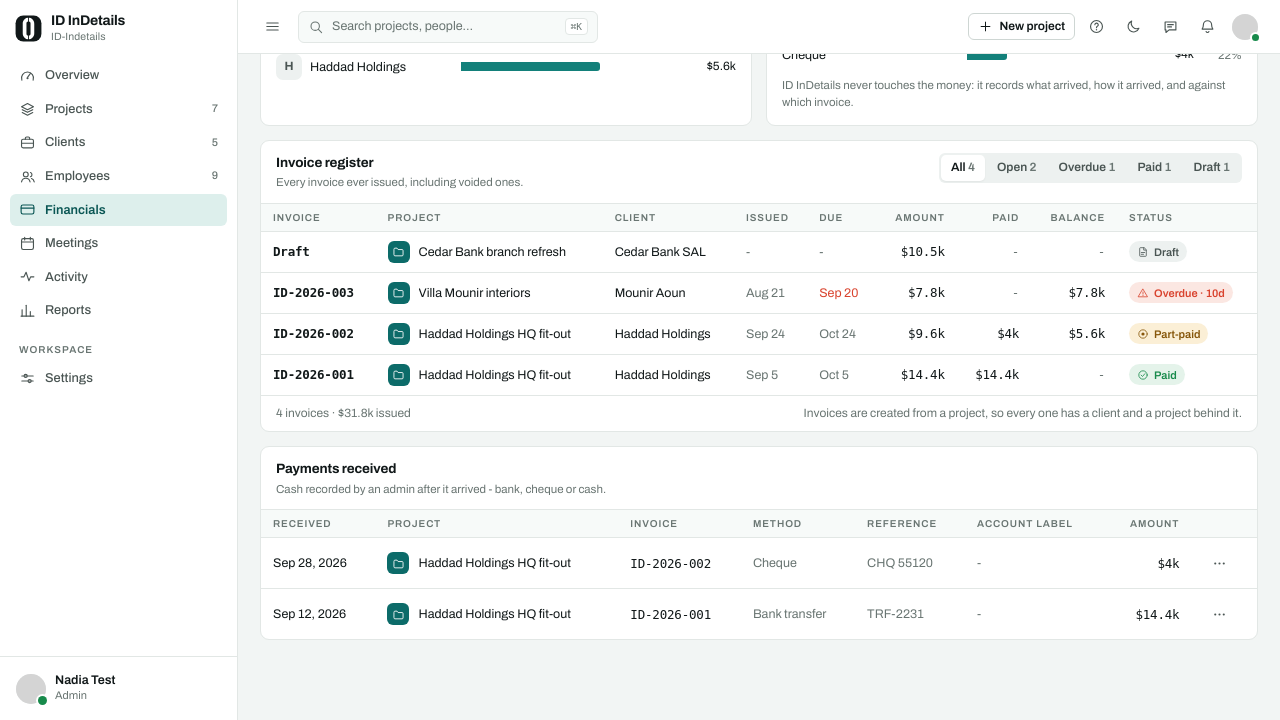
Test: the Label action › files a payment under a label, which the list then shows
(page scrolled)
Click the button named "Payment of Sep 28 actions": click(1219, 563) x1=1203 y1=547 x2=1235 y2=579
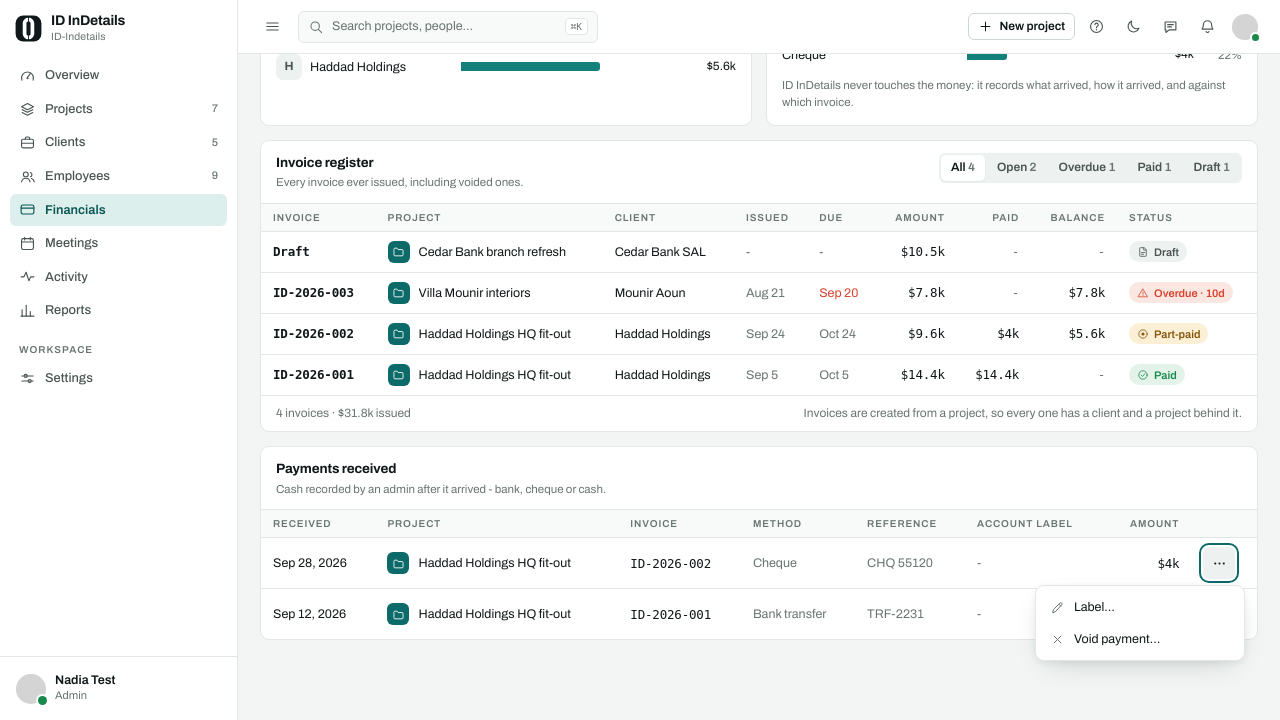
Click the button "Label…": click(1140, 607) x1=1041 y1=591 x2=1239 y2=623
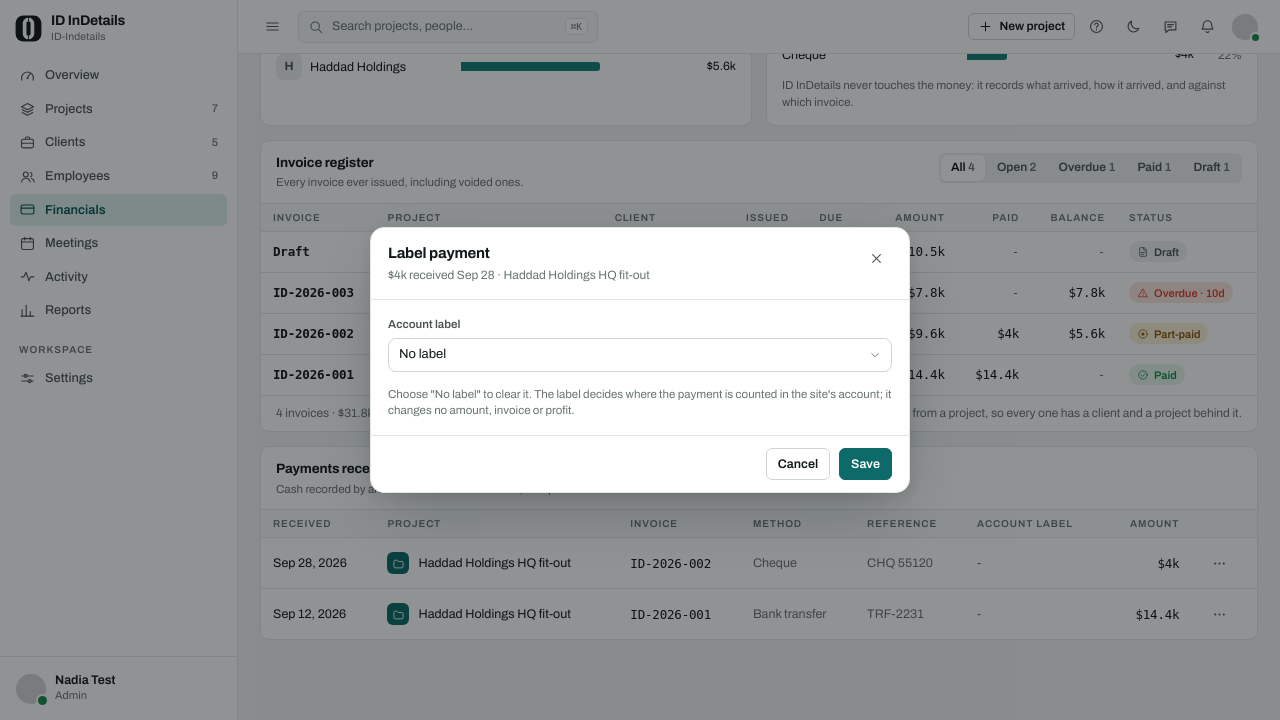
Expected: the button named "Account label" reads "No label"
Click the button named "Account label": click(423, 354) x1=388 y1=338 x2=892 y2=372
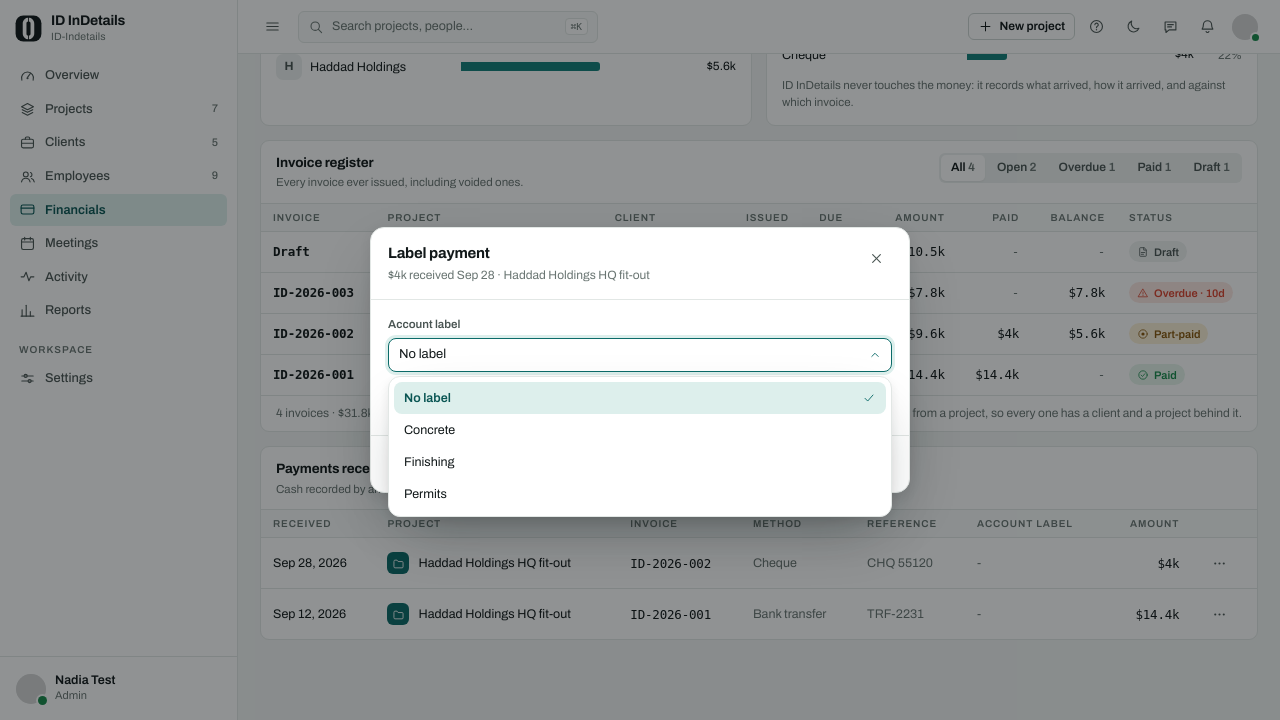
Click the option "Concrete": click(430, 430) x1=404 y1=423 x2=455 y2=437
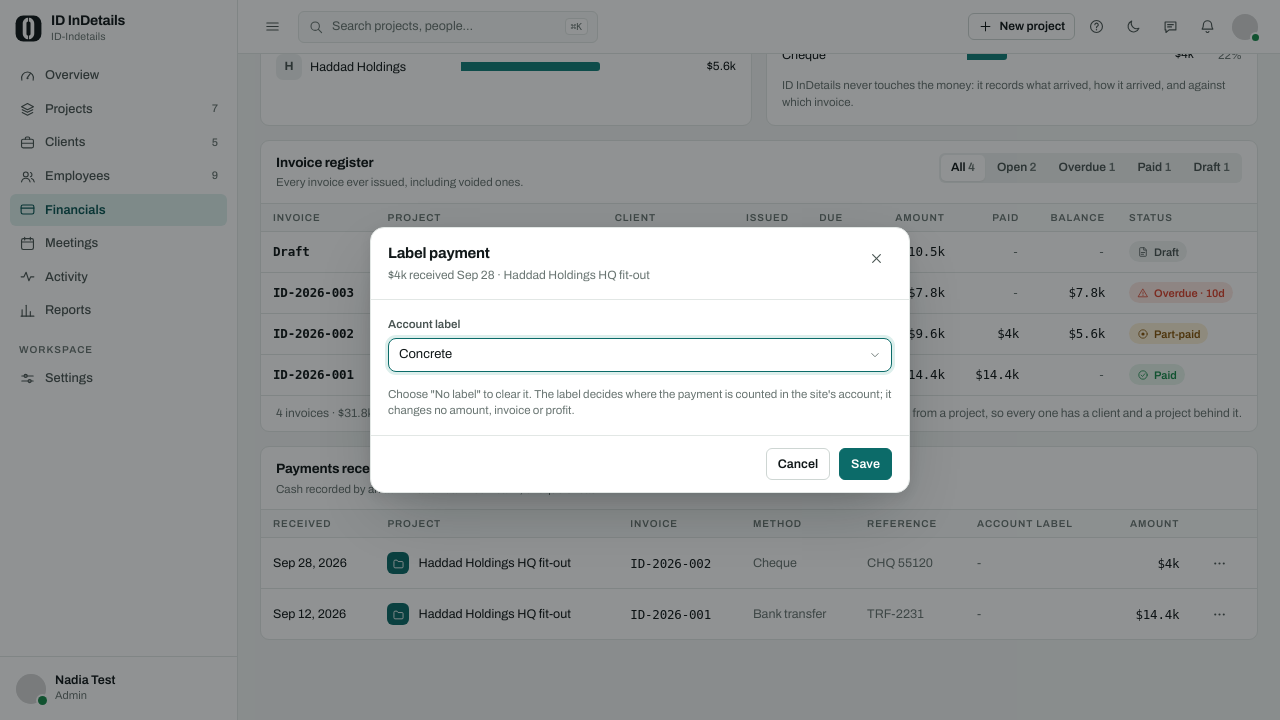
Click the button "Save": click(866, 464) x1=839 y1=448 x2=892 y2=480
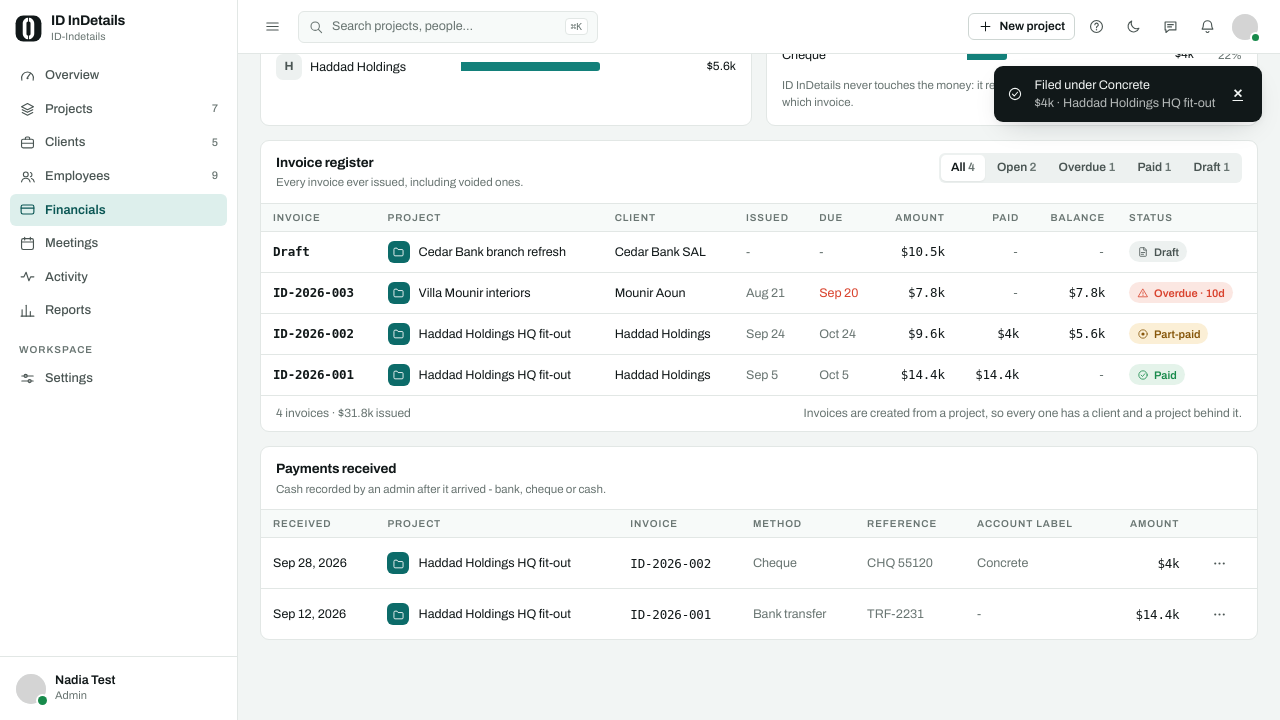
Expected: the text "Filed under Concrete" is shown, x1=1034 y1=78 x2=1150 y2=92
Expected: the text "Concrete" is shown, x1=965 y1=538 x2=1105 y2=589
